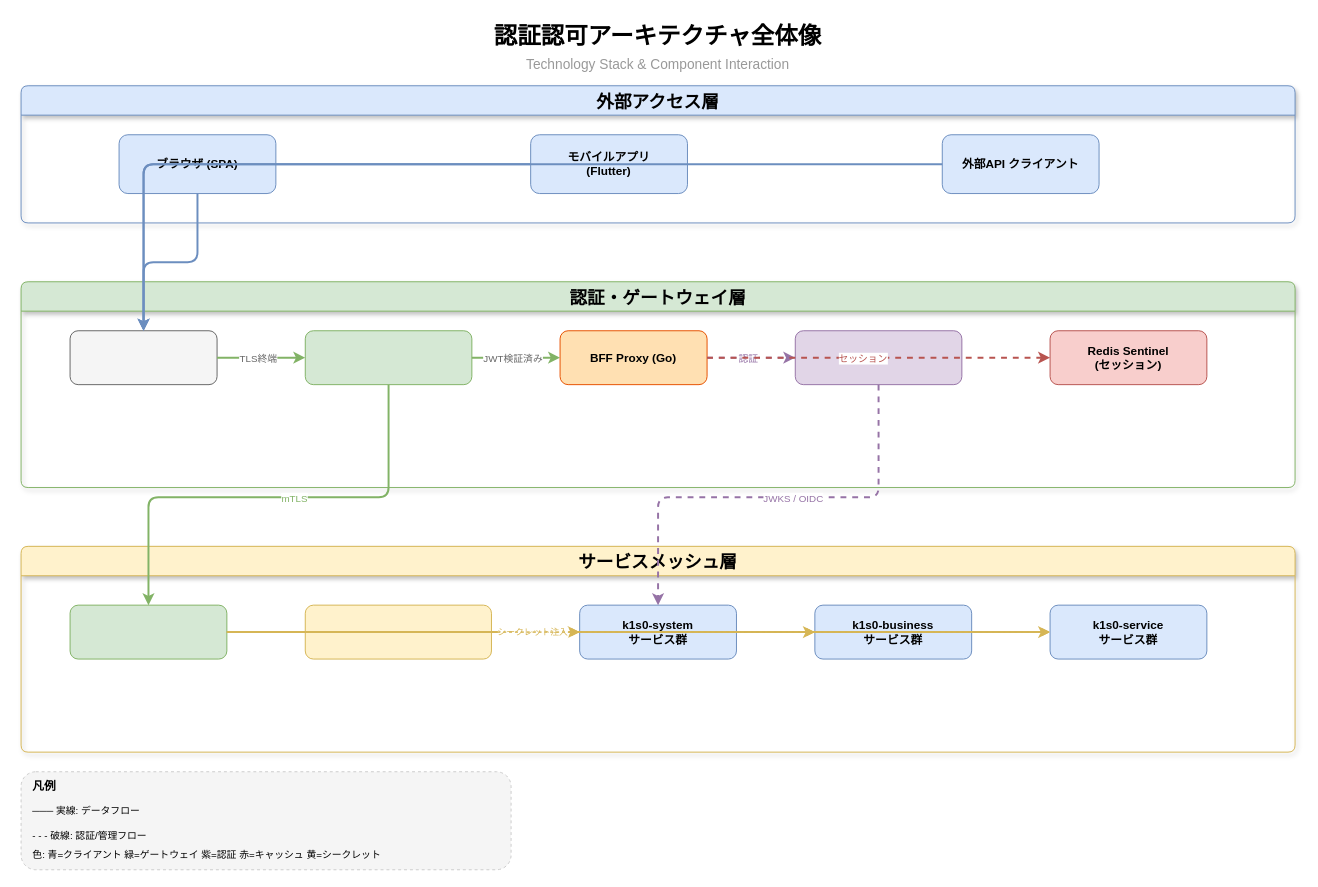
The diagram is 1318 pixels wide and 887 high, and some of its shapes have lost their labels. Each missing label, with the centre of its shape:
HashiCorp Vault 1.17 (シークレット管理): point 397,631
Istio (mTLS STRICT): point 148,631
Keycloak 26.0 (OIDC Provider): point 878,357
Kong API Gateway (JWT検証): point 388,357
Nginx Ingress: point 143,357
